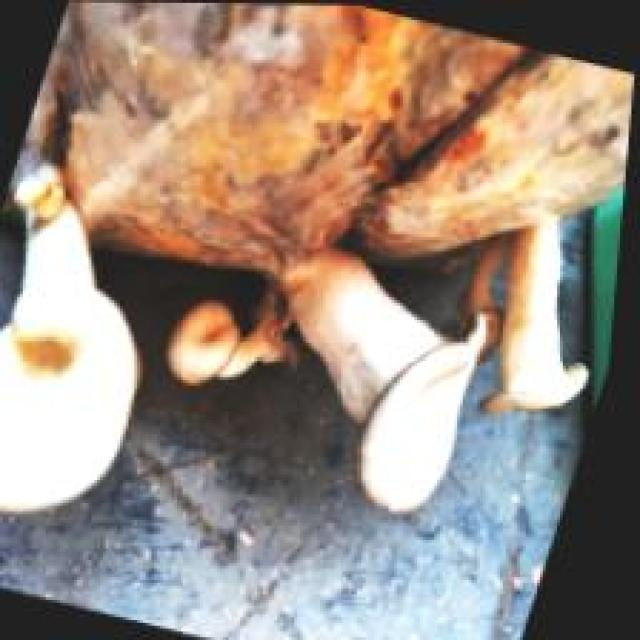field-mushroom: (0, 163, 140, 514)
